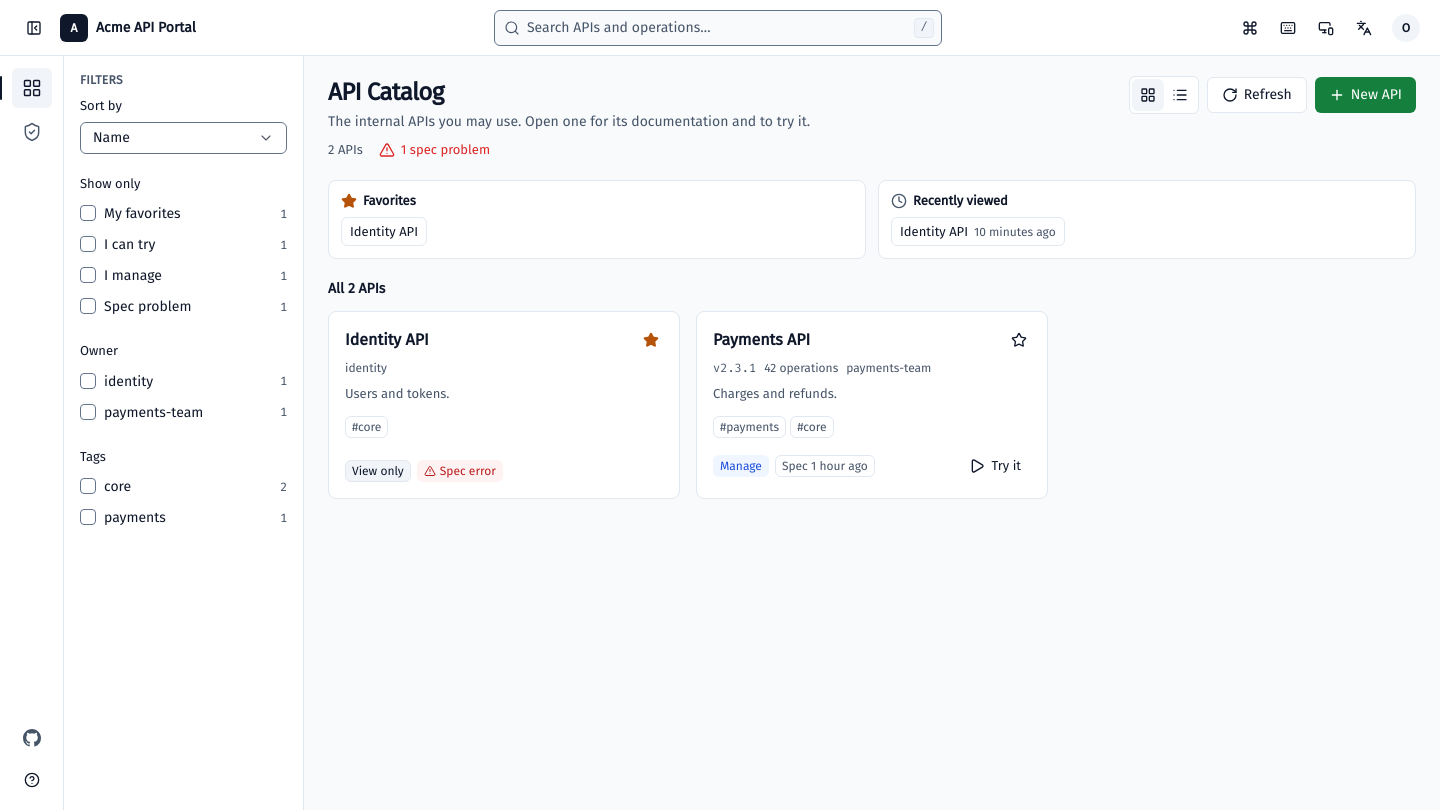
session end › a 401 after sign-in shows one toast and returns to the same page after signing in again
Check: the heading "API Catalog" is shown, box [328,78,444,106]
What coordinates should you click on to do the following:
click the link named "Admin"
I would click on:
 (32, 132)
Its box is [22,122,42,142].
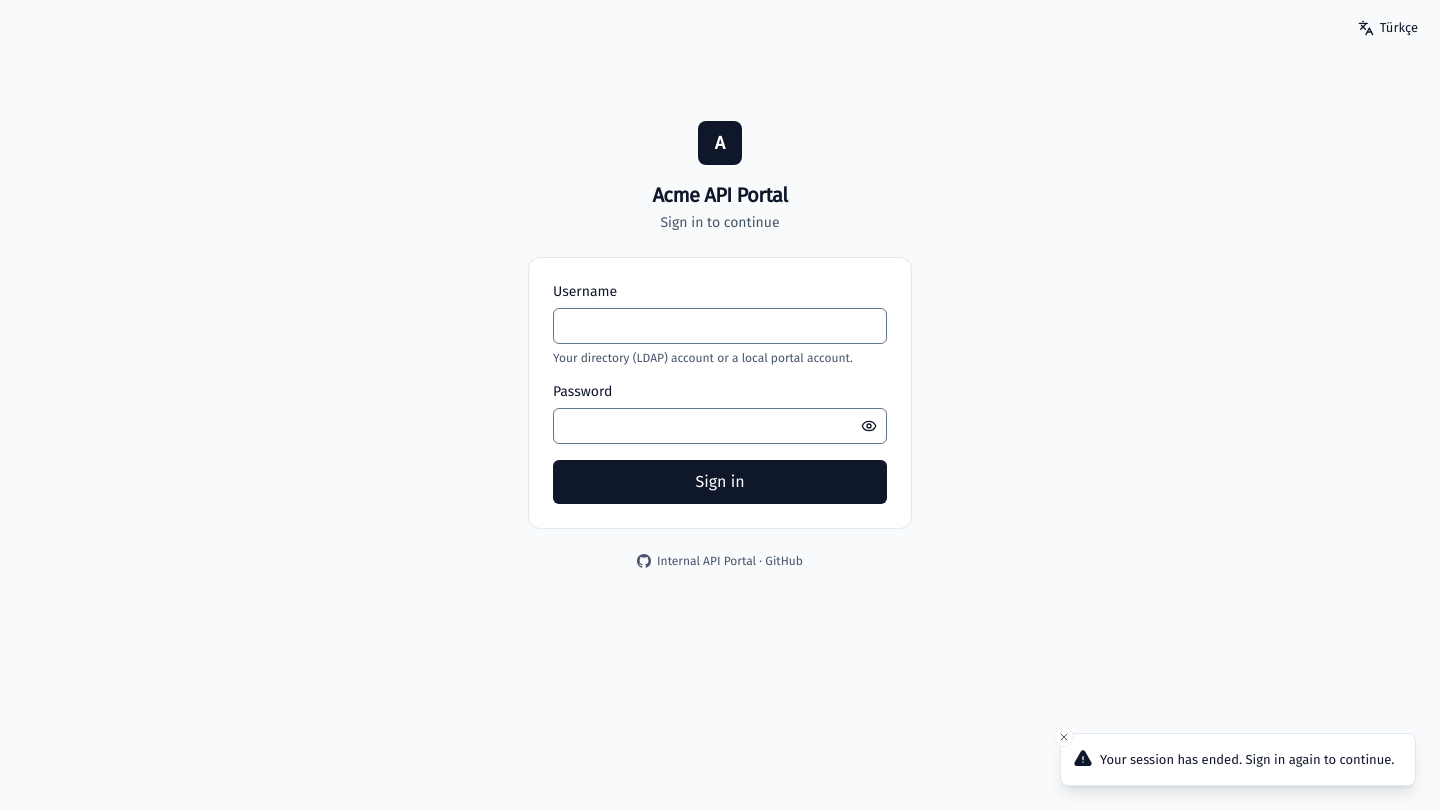
Check: the text "Your session has ended. Sign in again to continue." is shown once, box [1100,750,1394,769]
